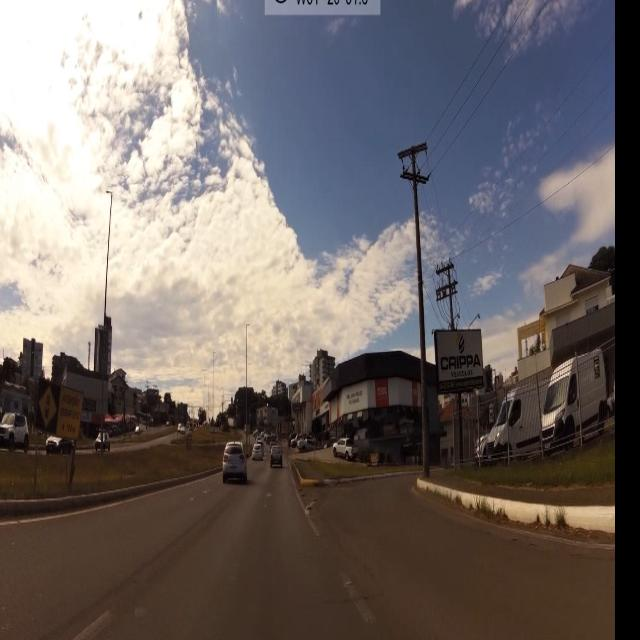A-14: (38, 385, 56, 431)
